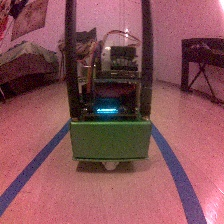rob: (68, 44, 152, 172)
